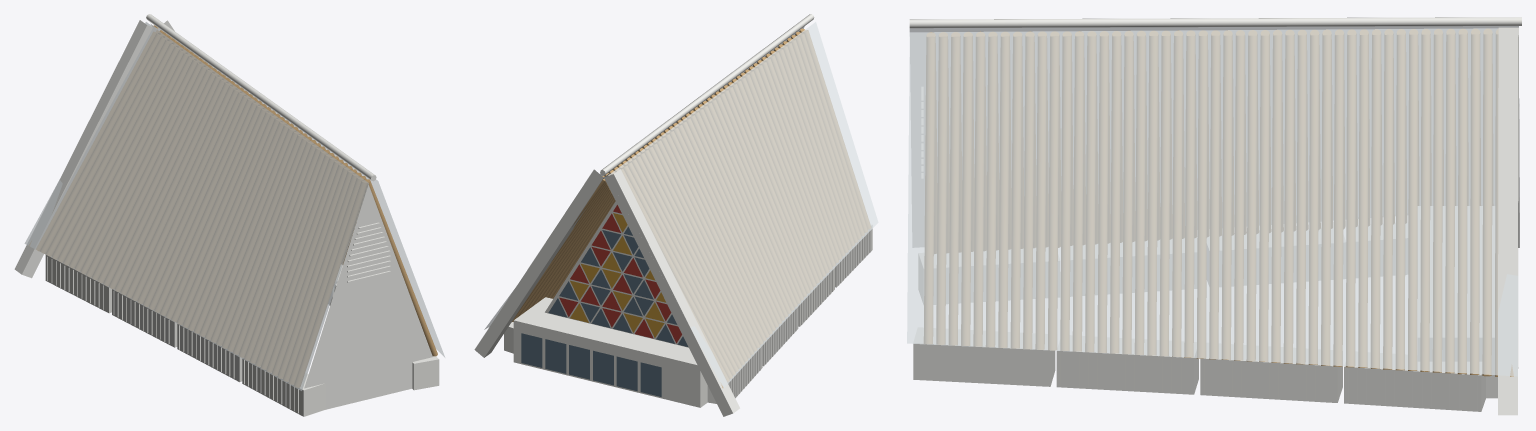
The model's file is christchurch-cardboard-cathedral.detail.glb.
3 renders of one model, left to right at view 1: azimuth 30°, elevation 25°; view 2: azimuth 150°, elevation 25°; view 3: azimuth 270°, elevation 25°, orthographic. The views are drawn at different scales.
Parts seen in each view (by area): view 1: Transitional Cathedral (Cardboard Cathedral); view 2: Transitional Cathedral (Cardboard Cathedral); view 3: Transitional Cathedral (Cardboard Cathedral).
Part boxes in pixels (bbox=[...]): Transitional Cathedral (Cardboard Cathedral): bbox=[14, 14, 445, 416]; Transitional Cathedral (Cardboard Cathedral): bbox=[474, 14, 878, 416]; Transitional Cathedral (Cardboard Cathedral): bbox=[907, 17, 1521, 415].
Size of the model in its own units: 27.79 by 22.35 by 39.52.
